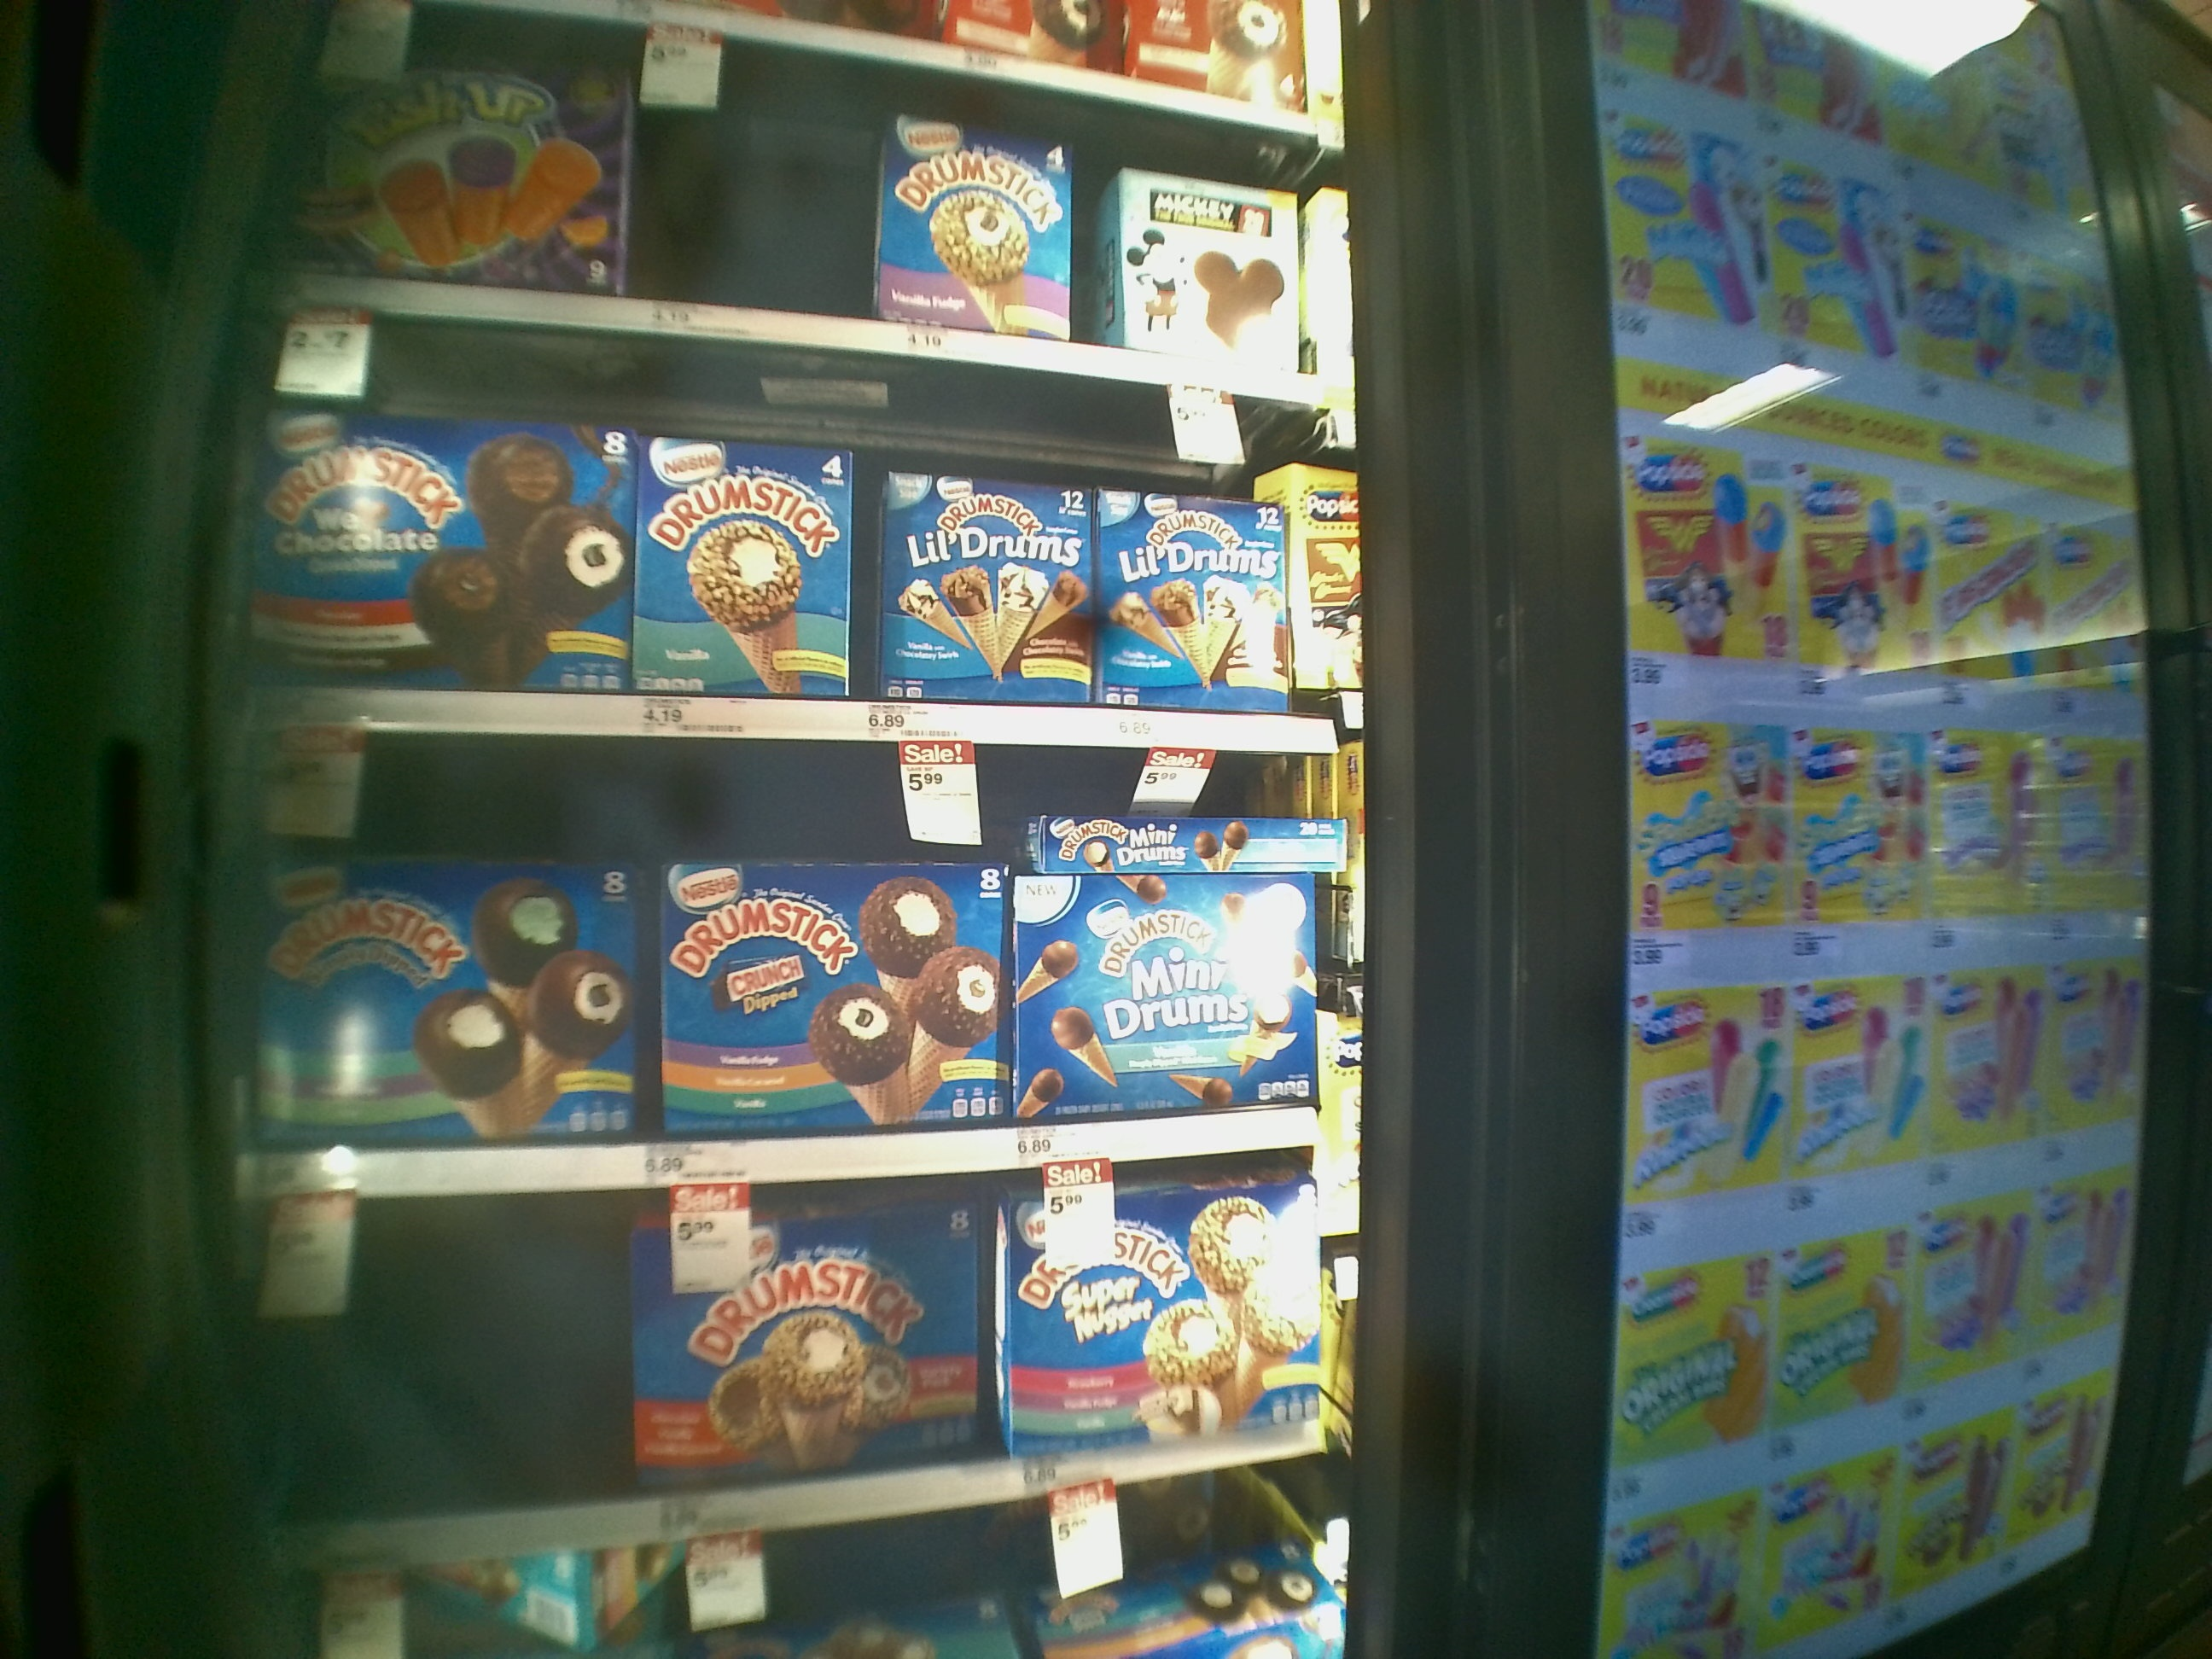shelf: (258, 737, 1385, 1201), (251, 305, 1355, 748)
